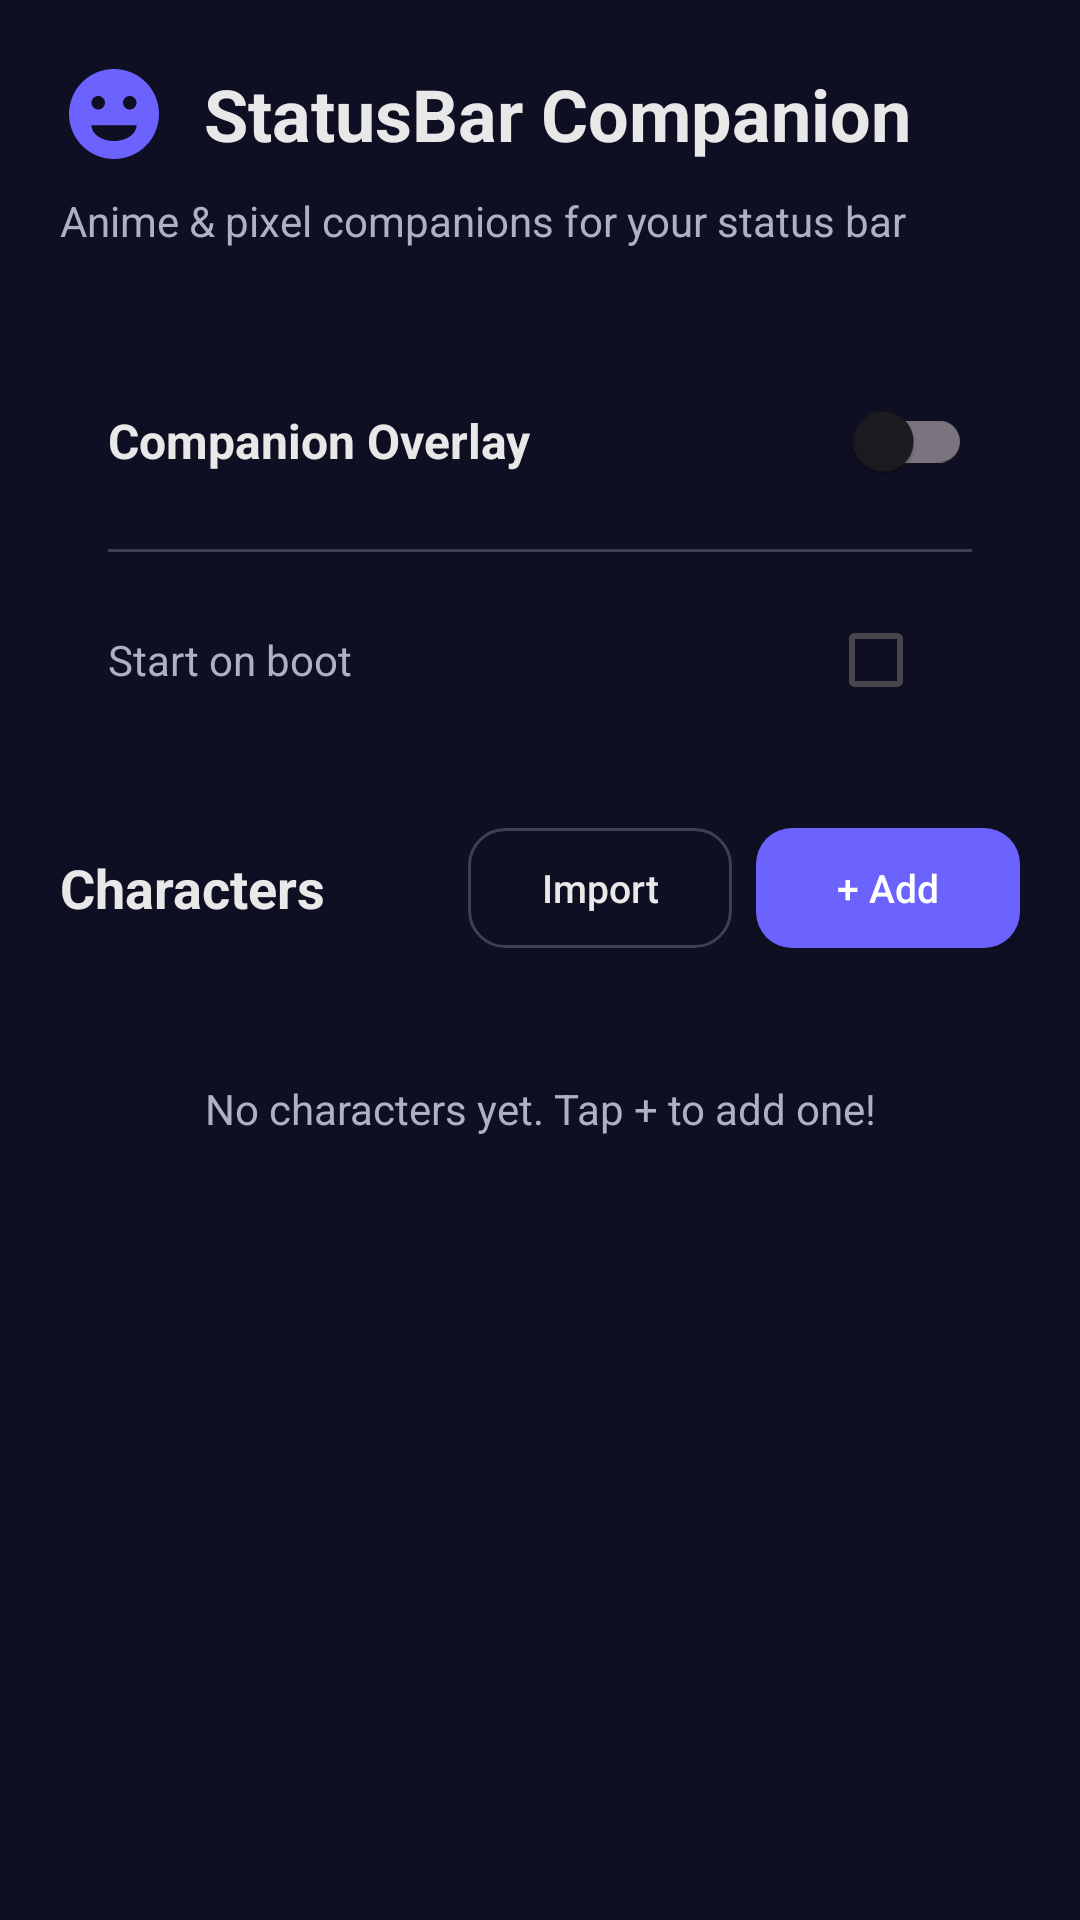

Icon click points for this 1080px×1920px phone screenshot, format point (x, y):
App icon: point (114, 114)
